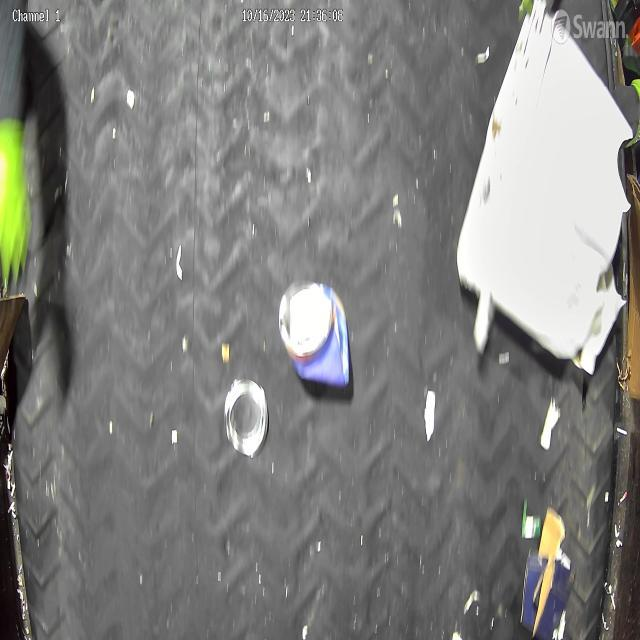can: (223, 378, 270, 459)
